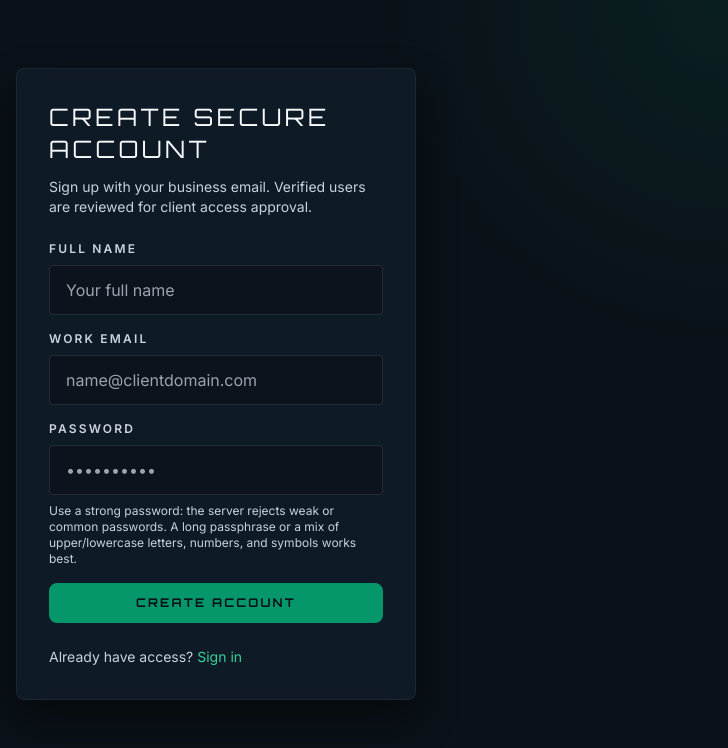
SignupPage › shows error message on failed signup
The image size is (728, 748).
Step 1. Type "Alice" into the field with placeholder "Your full name" → (216, 290), box [49, 265, 383, 315]
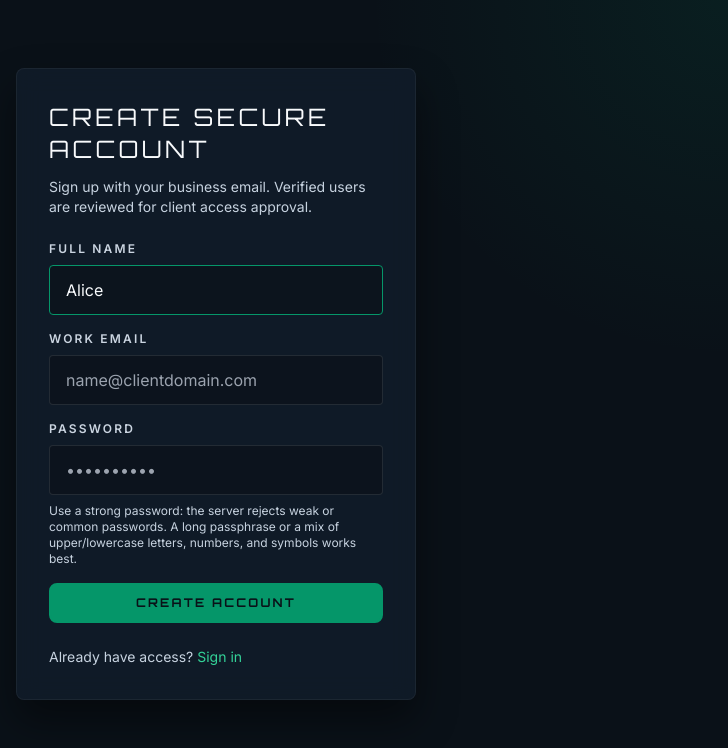
Step 2. Type "a@b.com" into the field with placeholder "name@clientdomain.com" → (216, 380), box [49, 355, 383, 405]
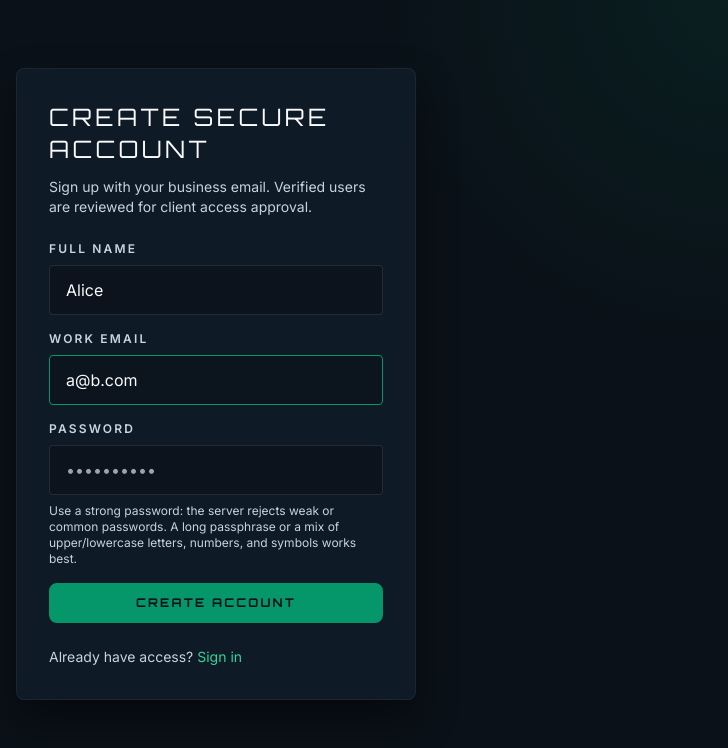
Step 3. Type "password" into the password field with placeholder "••••••••••" → (216, 470), box [49, 445, 383, 495]
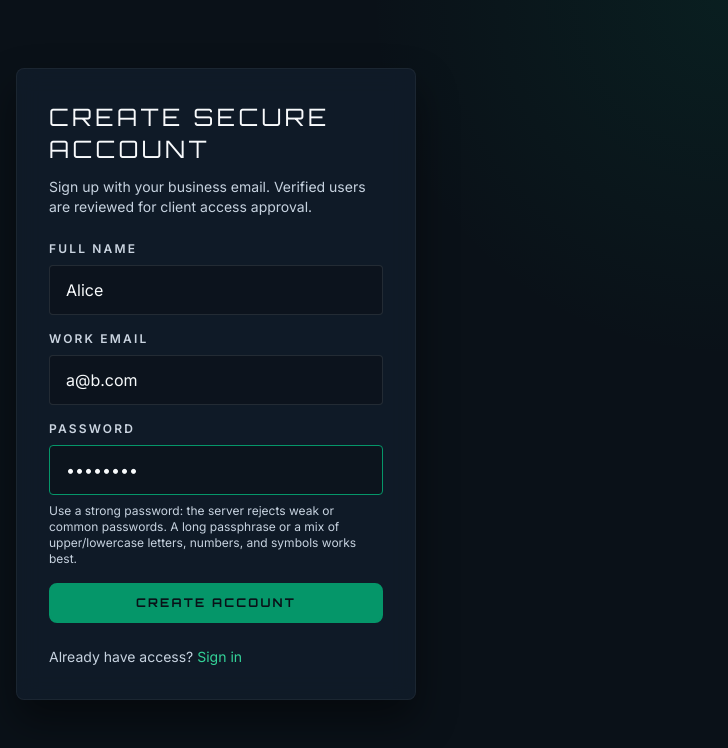
Step 4. Click the button "Create Account" → (216, 603), box [49, 583, 383, 623]
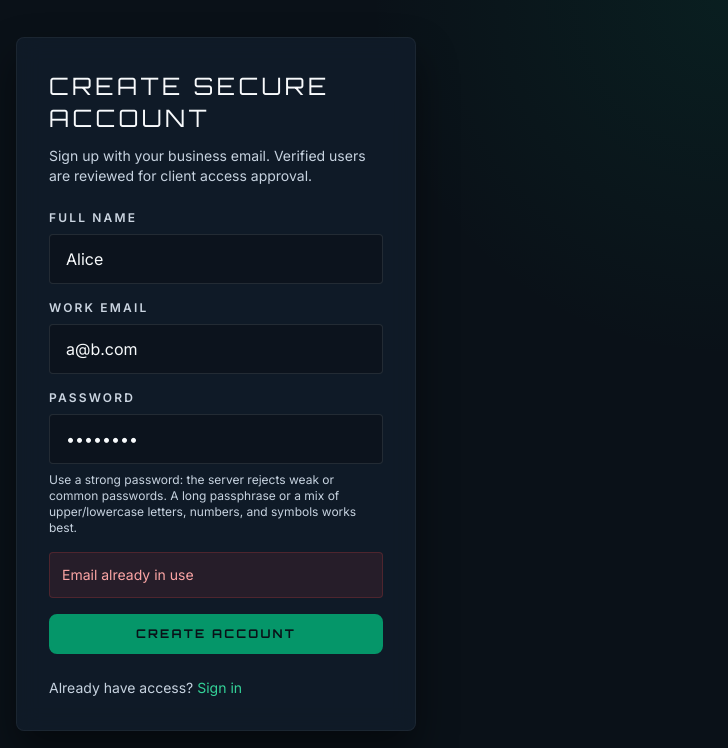
Expected: the text "Email already in use" is shown, [49, 552, 383, 598]
